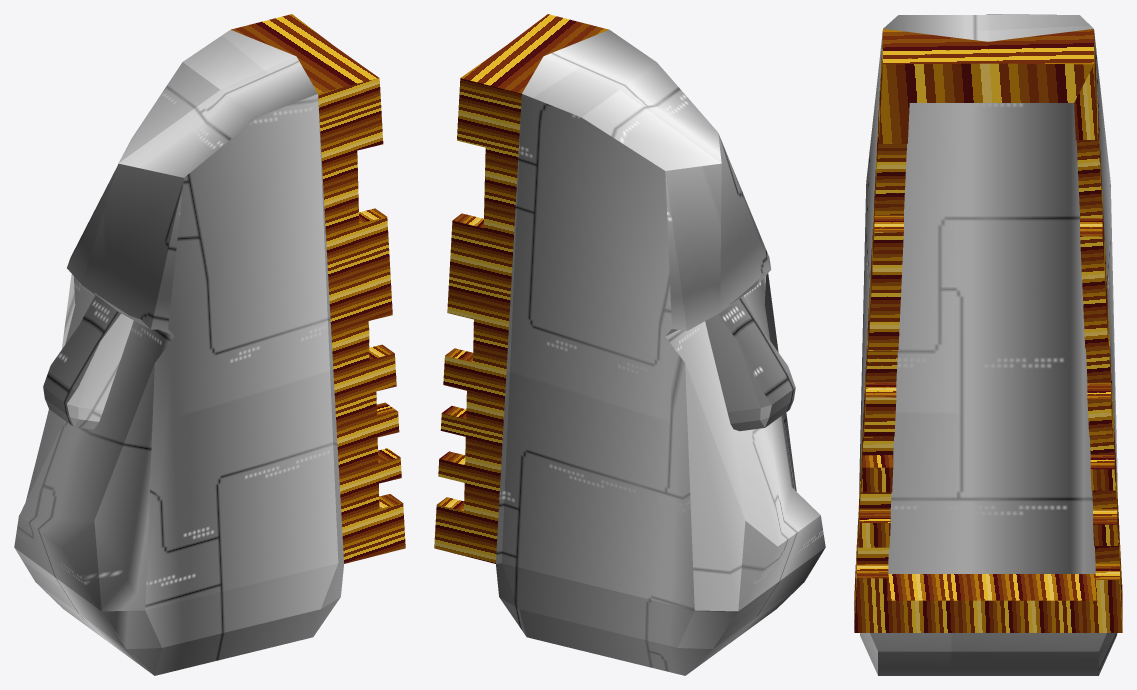
File: batch_Tech.fbx
The picture shows the model from 3 angles, left to right: view 1: azimuth 30°, elevation 25°; view 2: azimuth 150°, elevation 25°; view 3: azimuth 270°, elevation 25°; orthographic projection. The views are drawn at different scales.
Visible parts, largest first — view 1: Cube.007; view 2: Cube.007; view 3: Cube.007.
Part boxes in pixels (x1=…): Cube.007: x1=14, y1=14, x2=405, y2=675; Cube.007: x1=434, y1=14, x2=825, y2=675; Cube.007: x1=854, y1=14, x2=1122, y2=675.
Size of the model in its own units: 478 by 798 by 298.
